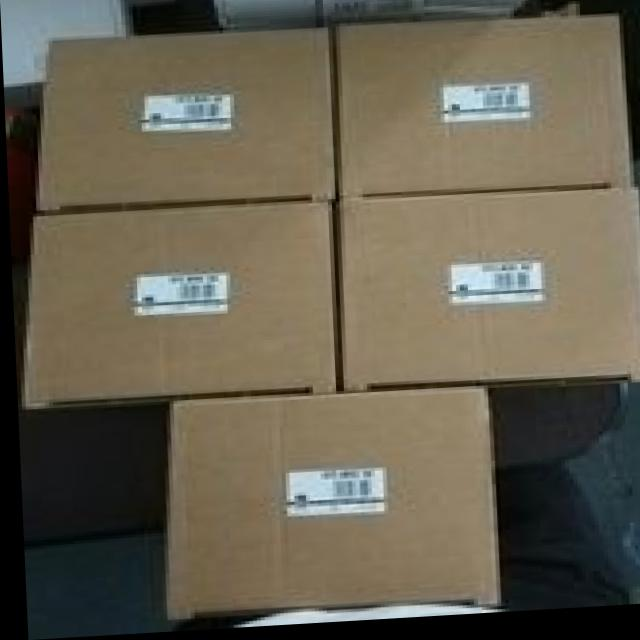box: (162, 388, 491, 622), (22, 198, 332, 407), (336, 187, 640, 395), (339, 21, 636, 200), (38, 31, 333, 211)
